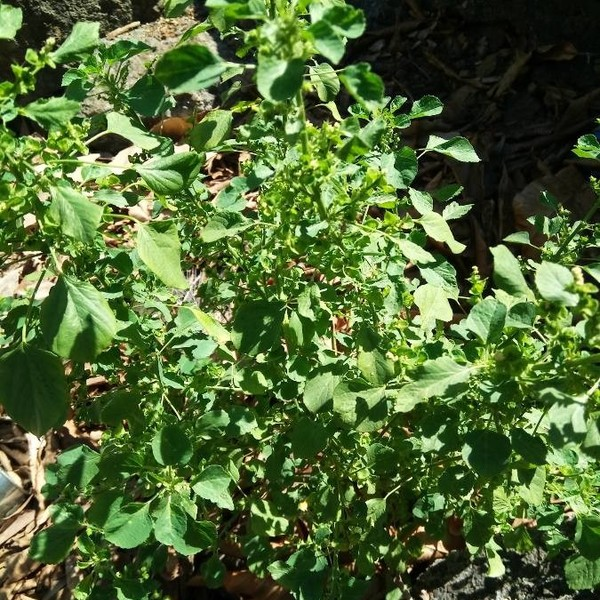obstacle: (21, 31, 499, 525)
